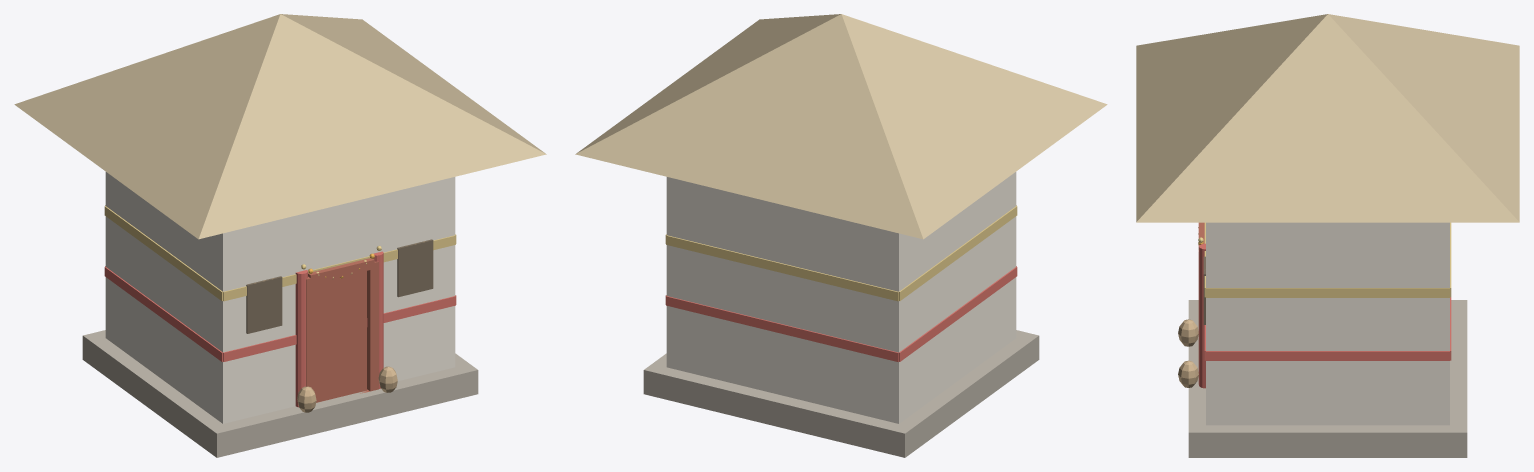
The model's file is Housing_India_01.fbx.
The picture shows the model from 3 angles, left to right: view 1: azimuth 30°, elevation 25°; view 2: azimuth 150°, elevation 25°; view 3: azimuth 270°, elevation 25°; orthographic projection. The views are drawn at different scales.
Parts seen in each view (by area): view 1: Housing_India_01_Mesh; view 2: Housing_India_01_Mesh; view 3: Housing_India_01_Mesh.
Part boxes in pixels (x1,y1,x2,y2): Housing_India_01_Mesh: (14, 14, 546, 457); Housing_India_01_Mesh: (575, 14, 1107, 457); Housing_India_01_Mesh: (1136, 14, 1519, 457).
Size of the model in its own units: 6 by 5.97 by 5.5.
